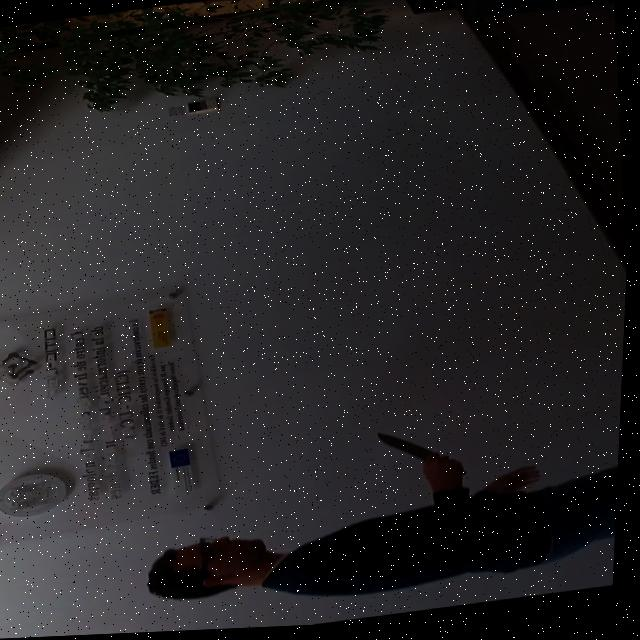knife: (371, 423, 446, 474)
